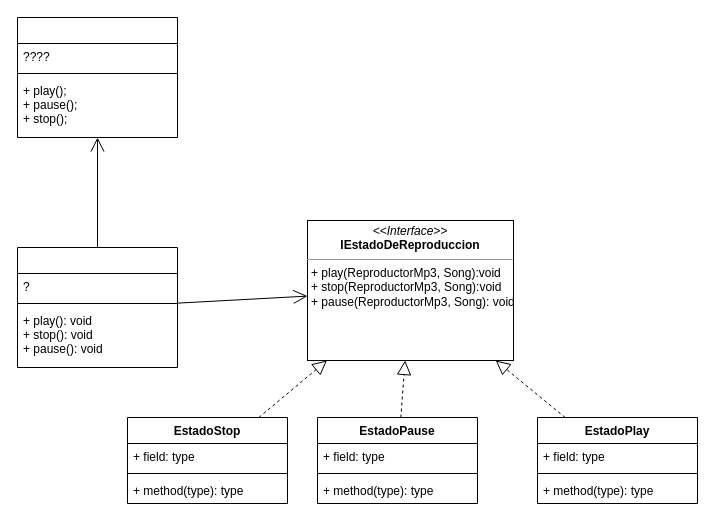
This 715x524 diagram has some shape labels left out. Each missing label, with the box of its shape:
ReproductorMp3: (16, 246, 178, 368)
Song: (16, 16, 178, 138)
